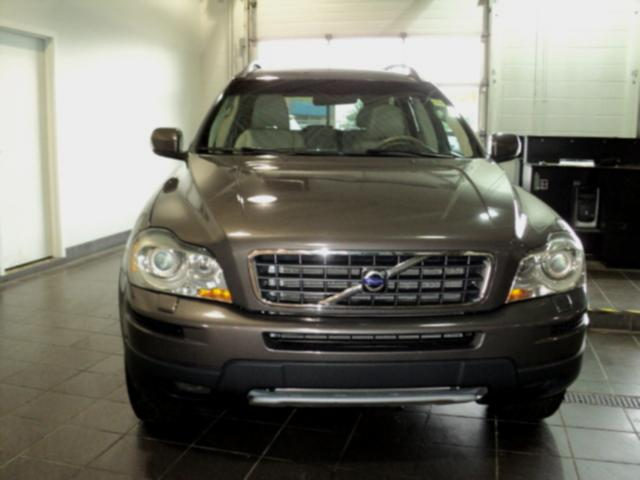volvo: (349, 262, 405, 300)
